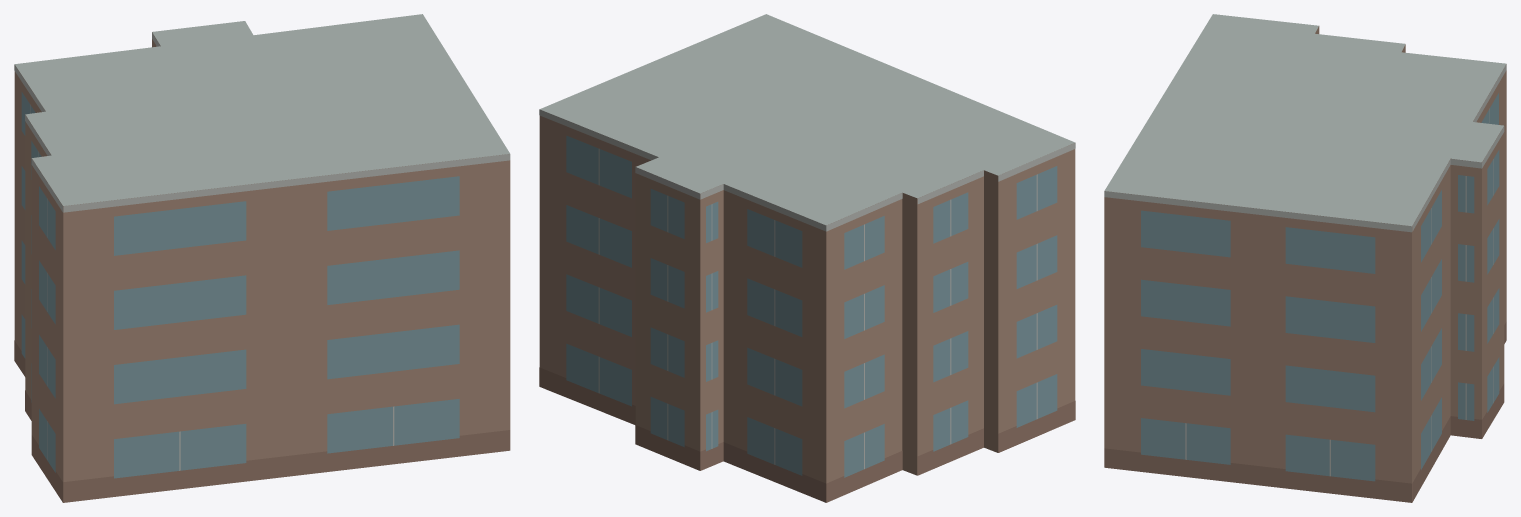
Rendered from survey-upis-32479908.glb.
The picture shows the model from 3 angles, left to right: view 1: azimuth 30°, elevation 25°; view 2: azimuth 150°, elevation 25°; view 3: azimuth 270°, elevation 25°; orthographic projection. The views are drawn at different scales.
Visible parts, largest first — view 1: survey-upis-32479908.tmp; view 2: survey-upis-32479908.tmp; view 3: survey-upis-32479908.tmp.
Boxes of the visible parts, box(x1,y1,x2,y2) form: survey-upis-32479908.tmp: box(14, 14, 510, 502); survey-upis-32479908.tmp: box(539, 14, 1075, 502); survey-upis-32479908.tmp: box(1104, 14, 1506, 502).
Size of the model in its own units: 18.11 by 11 by 14.51.
